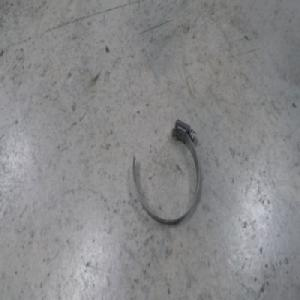AdjustableClamp: (132, 119, 200, 225)
